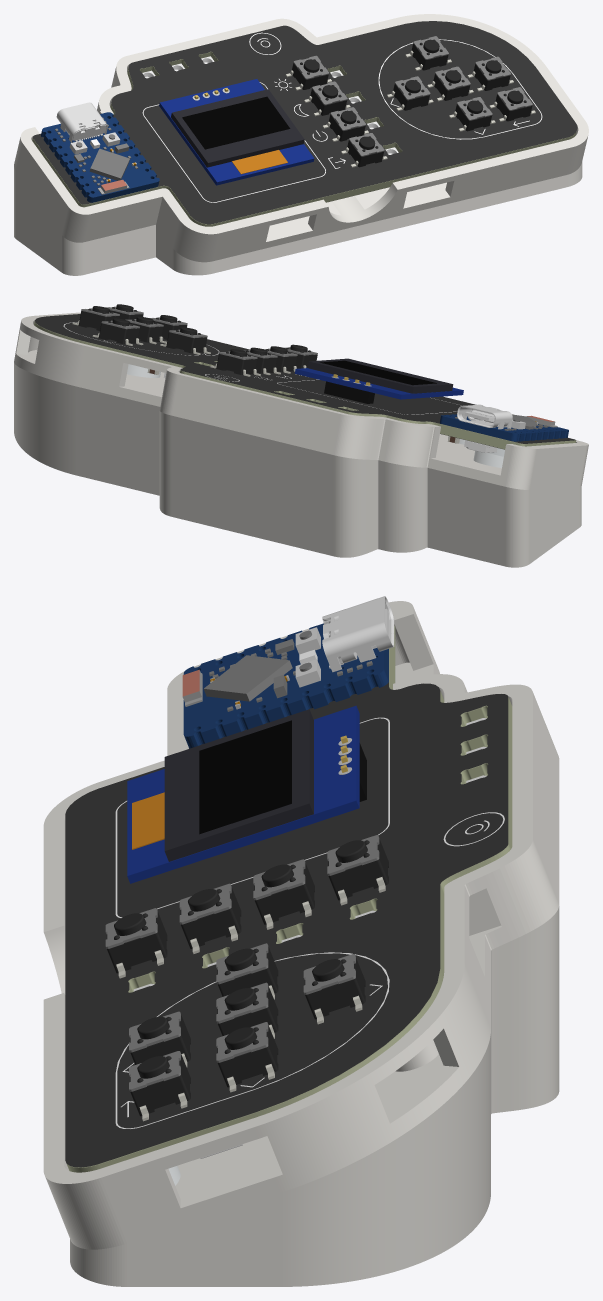
Rendered from leggio-assieme-viewer.glb.
The picture shows the model from 3 angles, top to bottom: view 1: azimuth 30°, elevation 25°; view 2: azimuth 150°, elevation 25°; view 3: azimuth 270°, elevation 25°; orthographic projection. The views are drawn at different scales.
Parts seen in each view (by area): view 1: planch_mat_28, leggio, planch_mat_0, planch_mat_10, planch_mat_1, planch_mat_8, planch_mat_7, planch_mat_3, planch_mat_30, planch_mat_15, planch_mat_26, planch_mat_16 (+4 smaller); view 2: leggio, planch_mat_28, planch_mat_0, planch_mat_30, planch_mat_7, planch_mat_10, planch_mat_3, planch_mat_1, planch_mat_15, planch_mat_8, planch_mat_4, planch_mat_2 (+2 smaller); view 3: leggio, planch_mat_28, planch_mat_0, planch_mat_10, planch_mat_7, planch_mat_3, planch_mat_1, planch_mat_8, planch_mat_30, planch_mat_15, planch_mat_16, planch_mat_26 (+4 smaller).
Part boxes in pixels (left/top/right/bottom): planch_mat_28: left=33, top=21, right=577, bottom=224; leggio: left=14, top=14, right=588, bottom=275; planch_mat_0: left=292, top=39, right=532, bottom=167; planch_mat_10: left=41, top=112, right=159, bottom=202; planch_mat_1: left=293, top=36, right=532, bottom=156; planch_mat_8: left=182, top=96, right=290, bottom=149; planch_mat_7: left=171, top=89, right=304, bottom=167; planch_mat_3: left=159, top=79, right=314, bottom=185; planch_mat_30: left=32, top=51, right=576, bottom=226; planch_mat_15: left=56, top=102, right=107, bottom=142; planch_mat_26: left=142, top=32, right=542, bottom=202; planch_mat_16: left=76, top=134, right=129, bottom=180; leggio: left=14, top=312, right=588, bottom=567; planch_mat_28: left=34, top=314, right=575, bottom=443; planch_mat_0: left=78, top=304, right=317, bottom=374; planch_mat_30: left=34, top=321, right=575, bottom=449; planch_mat_7: left=307, top=358, right=453, bottom=393; planch_mat_10: left=440, top=414, right=568, bottom=441; planch_mat_3: left=294, top=368, right=463, bottom=399; planch_mat_1: left=81, top=306, right=317, bottom=359; planch_mat_15: left=457, top=404, right=512, bottom=429; planch_mat_8: left=320, top=360, right=436, bottom=385; planch_mat_4: left=324, top=381, right=374, bottom=403; planch_mat_2: left=72, top=320, right=306, bottom=376; leggio: left=43, top=601, right=559, bottom=1286; planch_mat_28: left=65, top=682, right=508, bottom=1167; planch_mat_0: left=106, top=838, right=388, bottom=1116; planch_mat_10: left=183, top=623, right=388, bottom=748; planch_mat_7: left=164, top=709, right=313, bottom=861; planch_mat_3: left=127, top=705, right=359, bottom=883; planch_mat_1: left=105, top=835, right=379, bottom=1091; planch_mat_8: left=199, top=720, right=291, bottom=834; planch_mat_30: left=67, top=625, right=512, bottom=1172; planch_mat_15: left=322, top=596, right=394, bottom=672; planch_mat_16: left=203, top=630, right=311, bottom=701; planch_mat_26: left=115, top=717, right=504, bottom=1128.
Size of what is drawn, in the model's own units: 0.1254 by 0.0306 by 0.0568.
